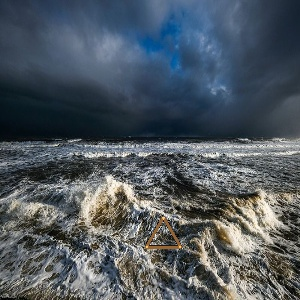triangle: (140, 214, 185, 252)
